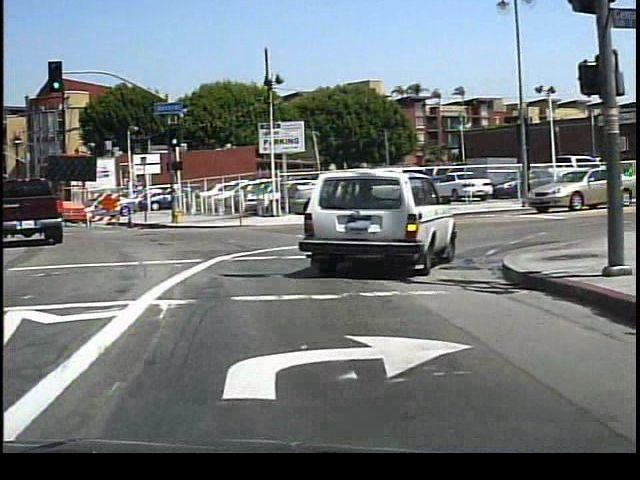person: (514, 162, 534, 205)
